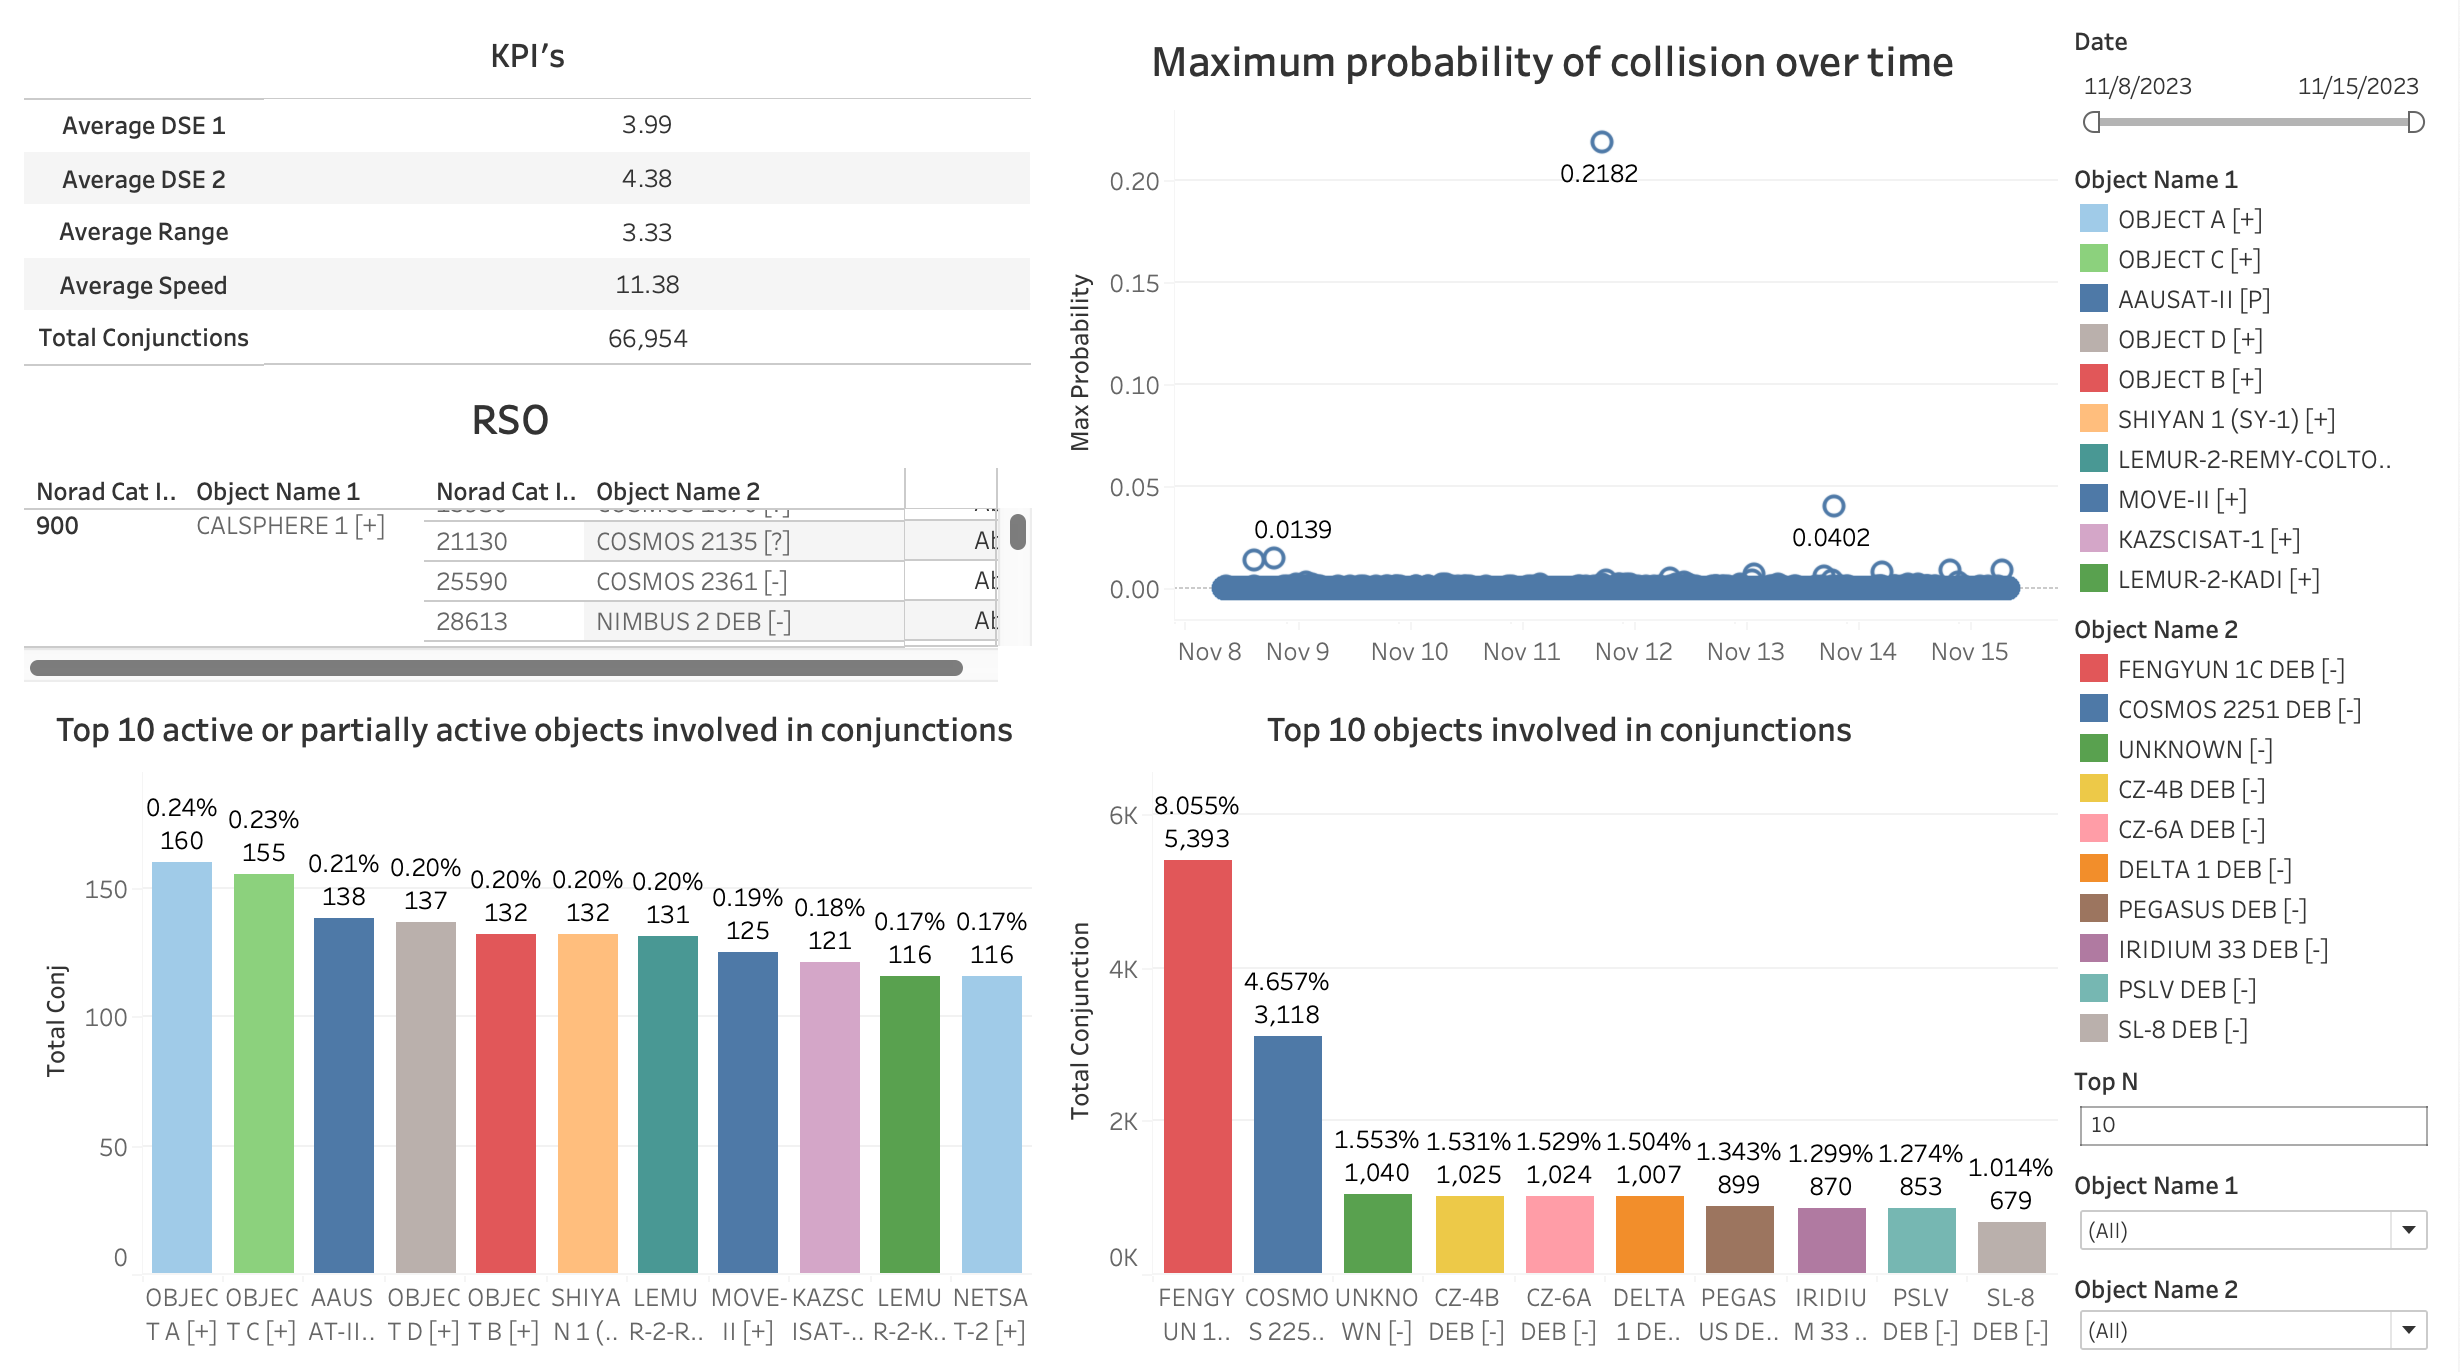

This screenshot's page, from the dashboard's own definition file:
{"tool":"tableau","page":{"name":"Conjunction Analysis","canvas":[1000,1000],"units":"permille","ordinal":0},"visuals":[{"type":"worksheet","title":"Total Conjunctions","mark":"Automatic","box":[6.5,11.6,417,259.8]},{"type":"worksheet","title":"Max Prob","mark":"Automatic","rows":["MAX_PROB"],"cols":["TCA"],"box":[423.5,11.6,417,488.4]},{"type":"filter","title":"Max Prob","param":"[federated.0bd5hwm1xq82ix1due14x1ta9alc].[none:Calculation_961237066360991746:qk","box":[840.5,11.6,153,100.1]},{"type":"legend","title":"Top Object 1 involved in conjunctions","param":"[federated.0bd5hwm1xq82ix1due14x1ta9alc].[none:OBJECT_NAME_1:nk]","box":[840.5,111.8,153,327.3]},{"type":"worksheet","title":"RSO","mark":"Automatic","rows":["NORAD_CAT_ID_1","OBJECT_NAME_1","NORAD_CAT_ID_2","OBJECT_NAME_2"],"box":[6.5,271.4,417,229.3]},{"type":"legend","title":"Top Object 2 involved in conjunctions","param":"[federated.0bd5hwm1xq82ix1due14x1ta9alc].[none:OBJECT_NAME_2:nk]","box":[840.5,439,153,327.3]},{"type":"worksheet","title":"Top Object 2 involved in conjunctions","mark":"Bar","rows":["Calculation_961237066360549377"],"cols":["OBJECT_NAME_2"],"box":[423.5,500,417,488.4]},{"type":"worksheet","title":"Top Object 1 involved in conjunctions","mark":"Bar","rows":["Calculation_961237066360549377"],"cols":["OBJECT_NAME_1"],"box":[6.5,500.7,417,487.7]},{"type":"parameter","param":"[Parameters].[Parameter 1]","box":[840.5,766.3,153,75.5]},{"type":"filter","title":"RSO","param":"[federated.0bd5hwm1xq82ix1due14x1ta9alc].[none:OBJECT_NAME_1:nk]","box":[840.5,841.8,153,75.5]},{"type":"filter","title":"RSO","param":"[federated.0bd5hwm1xq82ix1due14x1ta9alc].[none:OBJECT_NAME_2:nk]","box":[840.5,917.3,153,71.1]}]}

Visuals, with their boxes on the dashboard's canvas, which has no fixed pixel size, in thousandths of its width and height (x1, y1, x2, y2). These are canvas units, not pixel positions in the 2460x1372 screenshot, which may show the page scaled, cropped or inside an application window:
"Total Conjunctions" worksheet: <bbox>6, 12, 424, 271</bbox>
"Max Prob" worksheet: <bbox>424, 12, 840, 500</bbox>
"Max Prob" filter: <bbox>840, 12, 994, 112</bbox>
"Top Object 1 involved in conjunctions" legend: <bbox>840, 112, 994, 439</bbox>
"RSO" worksheet: <bbox>6, 271, 424, 501</bbox>
"Top Object 2 involved in conjunctions" legend: <bbox>840, 439, 994, 766</bbox>
"Top Object 2 involved in conjunctions" worksheet (Bar marks): <bbox>424, 500, 840, 988</bbox>
"Top Object 1 involved in conjunctions" worksheet (Bar marks): <bbox>6, 501, 424, 988</bbox>
parameter: <bbox>840, 766, 994, 842</bbox>
"RSO" filter: <bbox>840, 842, 994, 917</bbox>
"RSO" filter: <bbox>840, 917, 994, 988</bbox>
